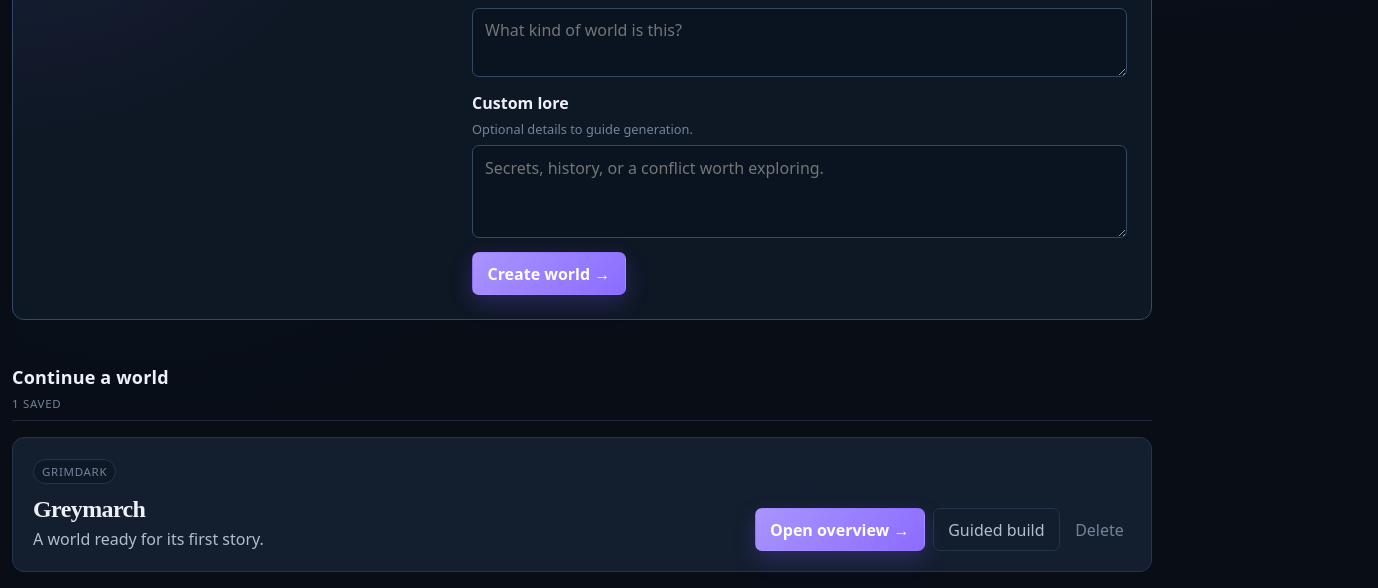
Test: CampaignsView world delete › a failed delete keeps the world listed and shows the error
This screenshot has width=1378, height=588.
(page scrolled)
Click the button "Delete".
click(1100, 530)  # box [1068,510,1131,549]
(page scrolled)
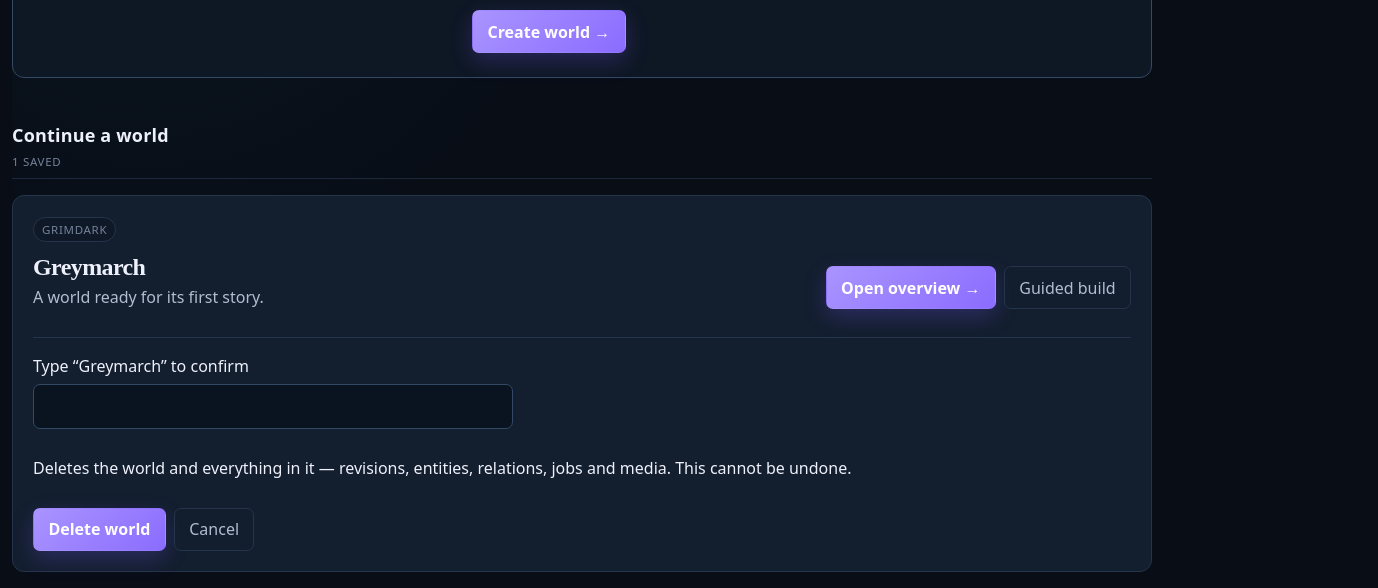
Type "Greymarch" into the field labelled "Type “Greymarch” to confirm".
click(273, 407); type("Greymarch")  # box [33,384,513,429]
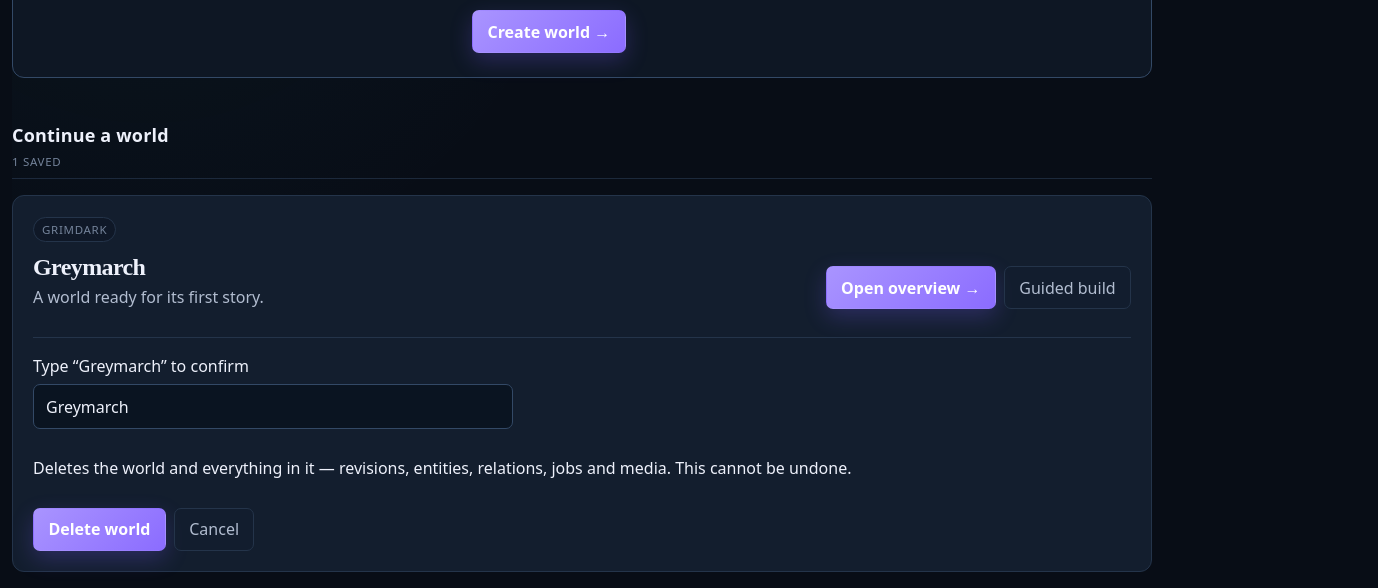
Submit the form with class "delete-world", box [33,337,1131,551]
(page scrolled)
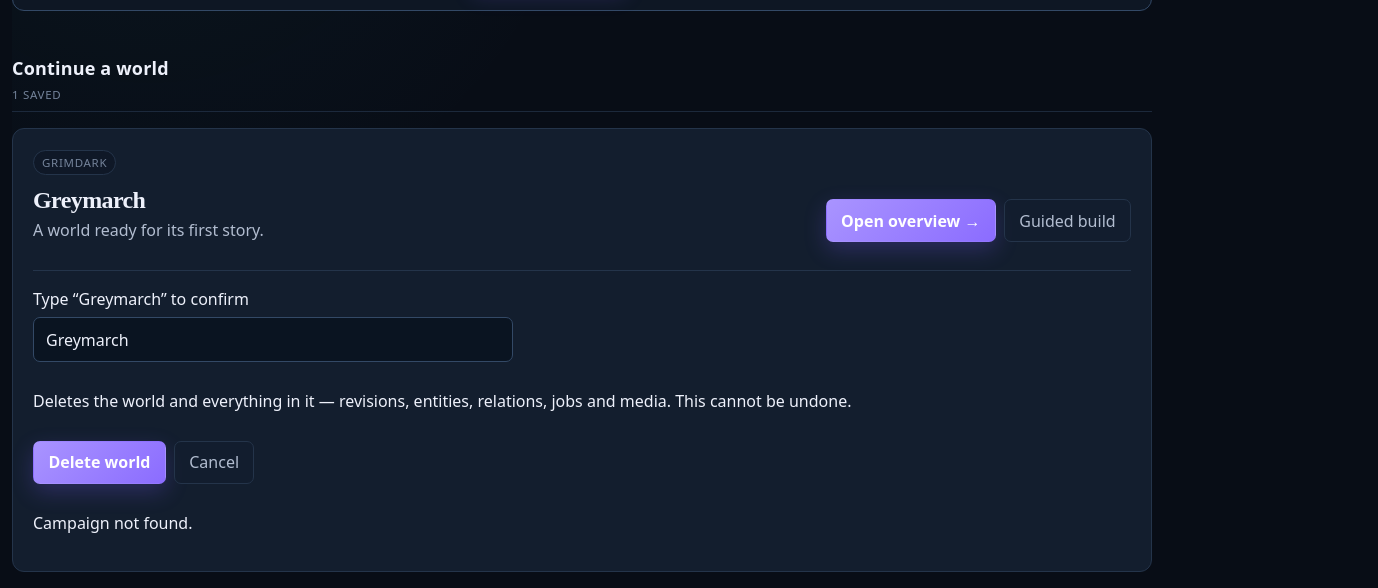
expect the text "Greymarch" is shown: met, box [33,187,145,213]
expect the form with class "delete-world" is shown: met, box [33,270,1131,551]
expect the text "Campaign not found." is shown: met, box [33,512,192,534]
